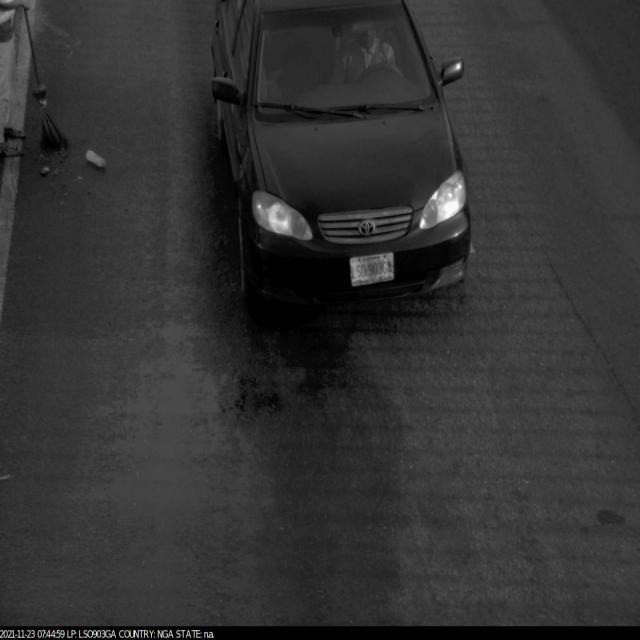windshield: (248, 2, 446, 127)
